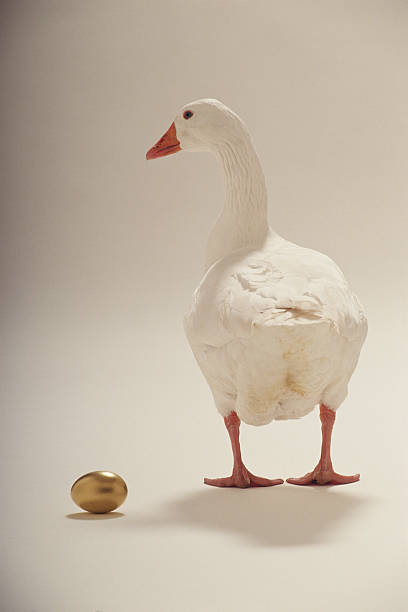goose: (137, 87, 384, 503)
